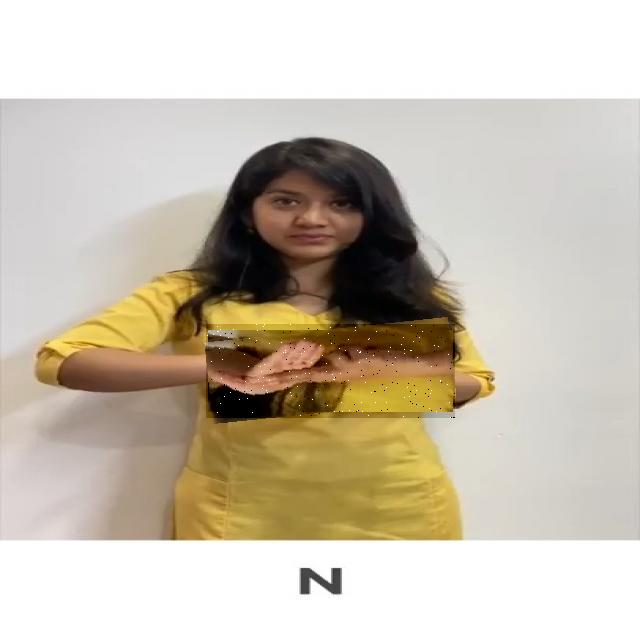N: (206, 324, 455, 418)
